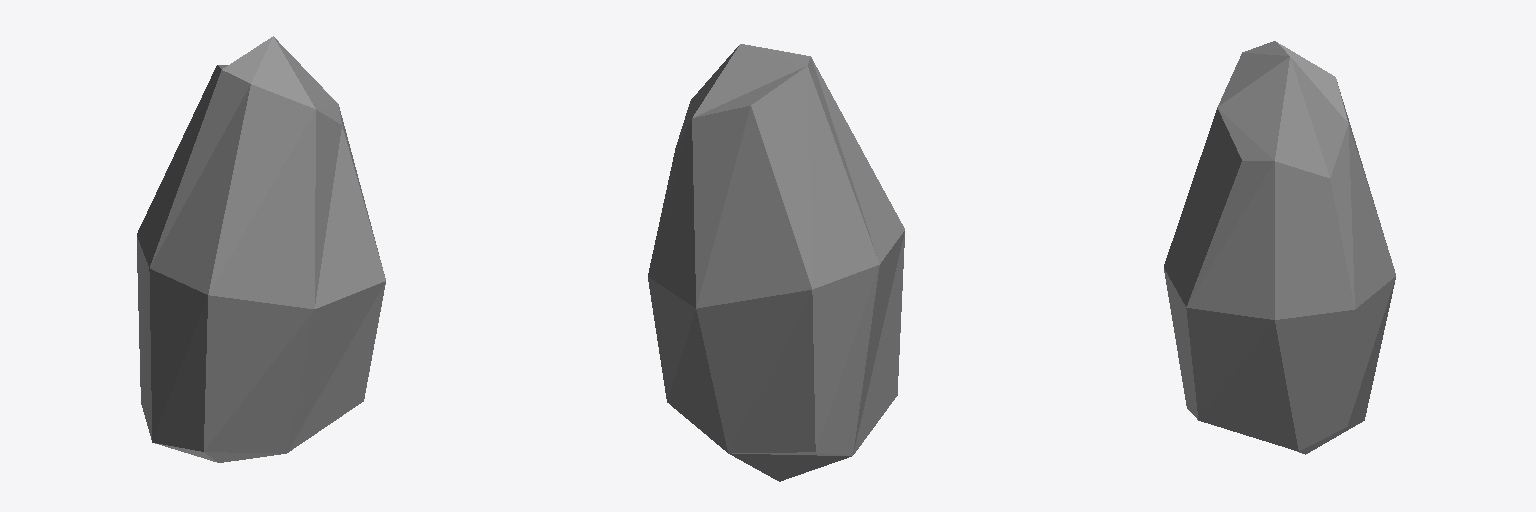
Rendered from Stone_Forest_3_LOD3.obj.
3 views of the same model, side by side, from view 1: azimuth 30°, elevation 25°; view 2: azimuth 150°, elevation 25°; view 3: azimuth 270°, elevation 25° (orthographic).
Visible parts, largest first — view 1: Stone_F_3_LOD3; view 2: Stone_F_3_LOD3; view 3: Stone_F_3_LOD3.
Boxes of the visible parts, x1=… form: Stone_F_3_LOD3: x1=137, y1=36, x2=385, y2=462; Stone_F_3_LOD3: x1=648, y1=44, x2=904, y2=481; Stone_F_3_LOD3: x1=1164, y1=41, x2=1395, y2=454.
Size of the model in its own units: 69.98 by 129 by 64.67.